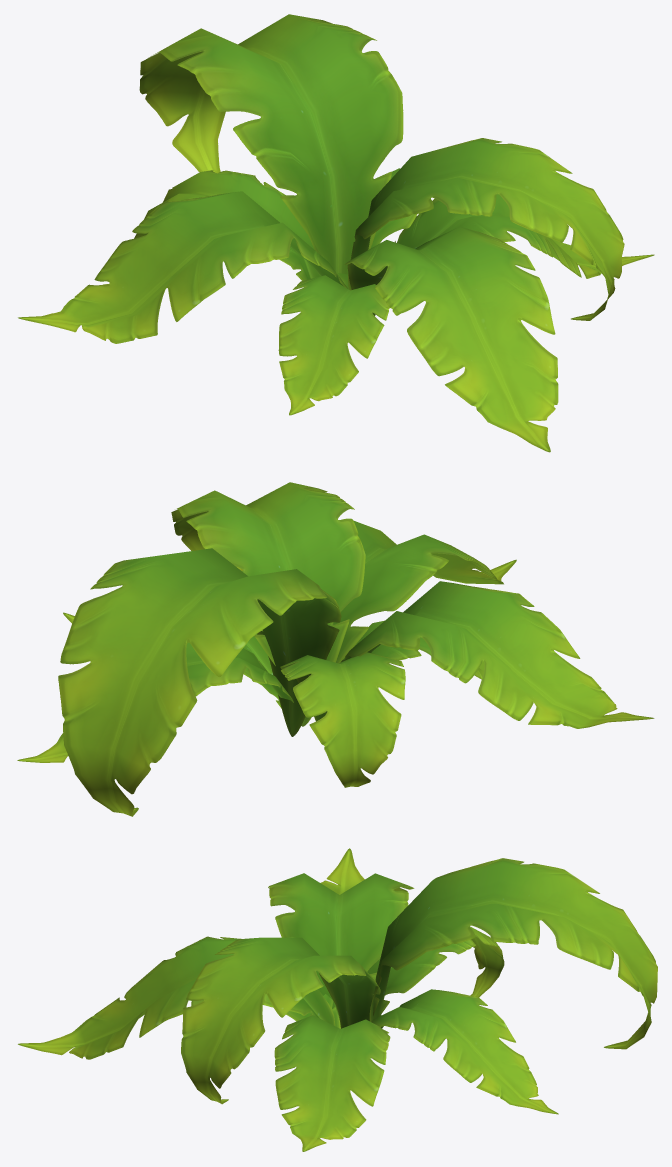
File: Bush3.fbx
3 views of the same model, one above another, from view 1: azimuth 30°, elevation 25°; view 2: azimuth 150°, elevation 25°; view 3: azimuth 270°, elevation 25° (orthographic). The views are drawn at different scales.
Parts seen in each view (by area): view 1: Plane.001; view 2: Plane.001; view 3: Plane.001.
Boxes of the visible parts, left/top/right/bottom form: Plane.001: left=18, top=14, right=654, bottom=452; Plane.001: left=17, top=482, right=654, bottom=816; Plane.001: left=18, top=848, right=657, bottom=1151.
Size of the model in its own units: 148 by 53.96 by 160.
1 material, 1 textured.
